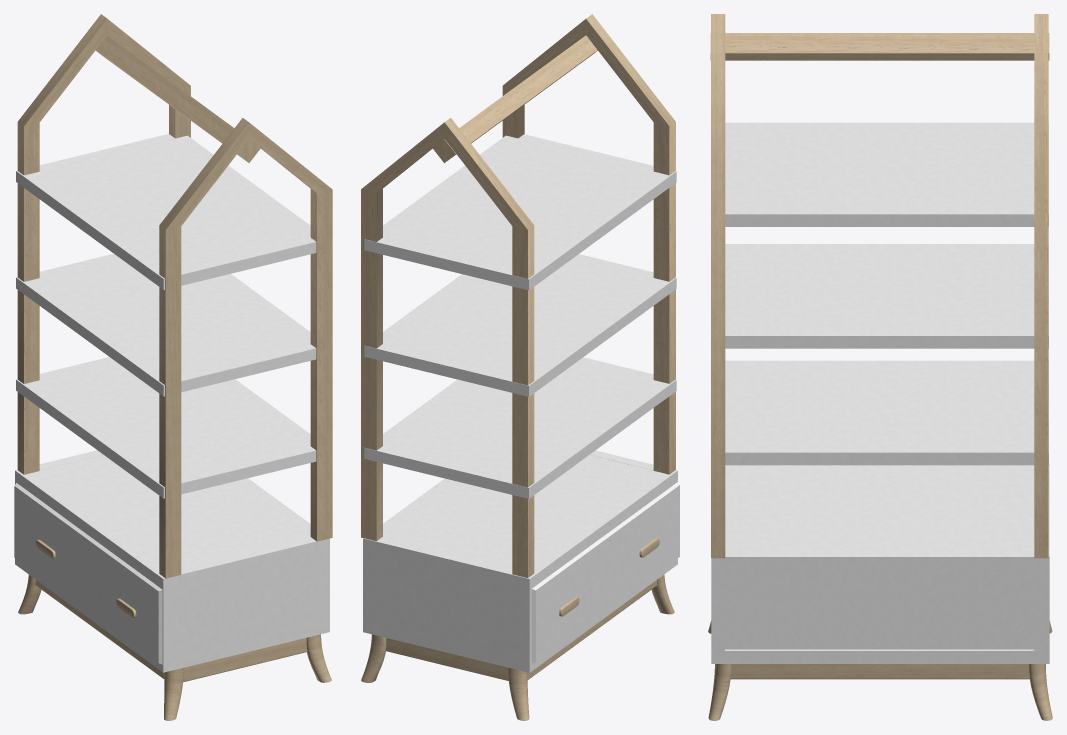
File: Bibiotheque.FBX
3 renders of one model, left to right at view 1: azimuth 30°, elevation 25°; view 2: azimuth 150°, elevation 25°; view 3: azimuth 270°, elevation 25°, orthographic. The views are drawn at different scales.
Visible parts, largest first — view 1: Box040, bibliothequeBois; view 2: Box040, bibliothequeBois; view 3: Box040, bibliothequeBois.
Boxes of the visible parts, x1,y1,x2,y2 form: Box040: [14, 134, 329, 672]; bibliothequeBois: [17, 14, 332, 720]; Box040: [363, 134, 679, 672]; bibliothequeBois: [361, 14, 675, 720]; Box040: [711, 122, 1049, 663]; bibliothequeBois: [708, 14, 1052, 720].
Size of the model in its own units: 21.5 by 67.76 by 32.06.
